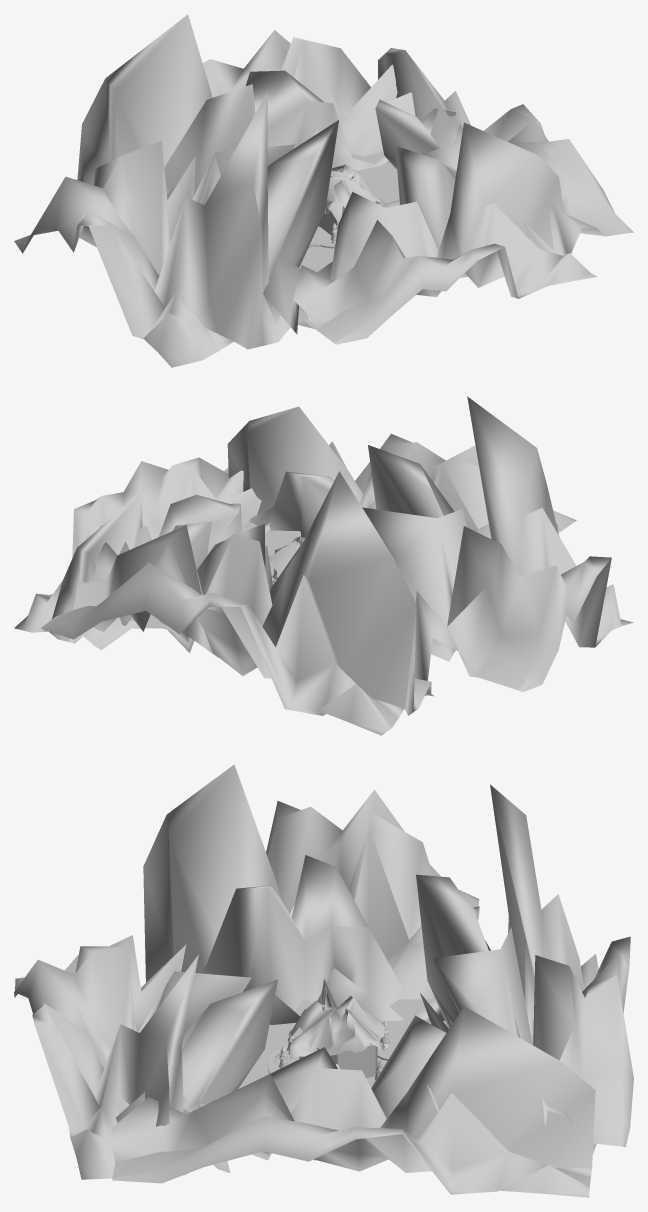
File: 3D Platform Level.fbx
3 renders of one model, top to bottom at view 1: azimuth 30°, elevation 25°; view 2: azimuth 150°, elevation 25°; view 3: azimuth 270°, elevation 25°, orthographic. The views are drawn at different scales.
Visible parts, largest first — view 1: pPlane7, pPlane5, pPlane4, pPlane6, pPlane1, pPlane9; view 2: pPlane4, pPlane7, pPlane6, pPlane5, pPlane1, pPlane9; view 3: pPlane6, pPlane7, pPlane5, pPlane4, pPlane9, pPlane1, pCube6.
Boxes of the visible parts, box(x1,y1,x2,y2) form: pPlane7: box(14, 92, 338, 367); pPlane5: box(263, 122, 597, 344); pPlane4: box(77, 14, 456, 195); pPlane6: box(375, 48, 633, 255); pPlane1: box(299, 152, 399, 271); pPlane9: box(324, 164, 386, 223); pPlane4: box(41, 471, 434, 735); pPlane7: box(362, 396, 633, 695); pPlane6: box(14, 457, 271, 649); pPlane5: box(227, 406, 576, 538); pPlane1: box(121, 522, 300, 630); pPlane9: box(269, 536, 304, 577); pPlane6: box(111, 1006, 596, 1197); pPlane7: box(143, 764, 479, 1024); pPlane5: box(14, 935, 277, 1179); pPlane4: box(416, 784, 633, 1147); pPlane9: box(290, 979, 385, 1058); pPlane1: box(200, 999, 447, 1106); pCube6: box(338, 1044, 375, 1077).
Bounding box in the file's own units: 6839 × 2932 × 6093.
